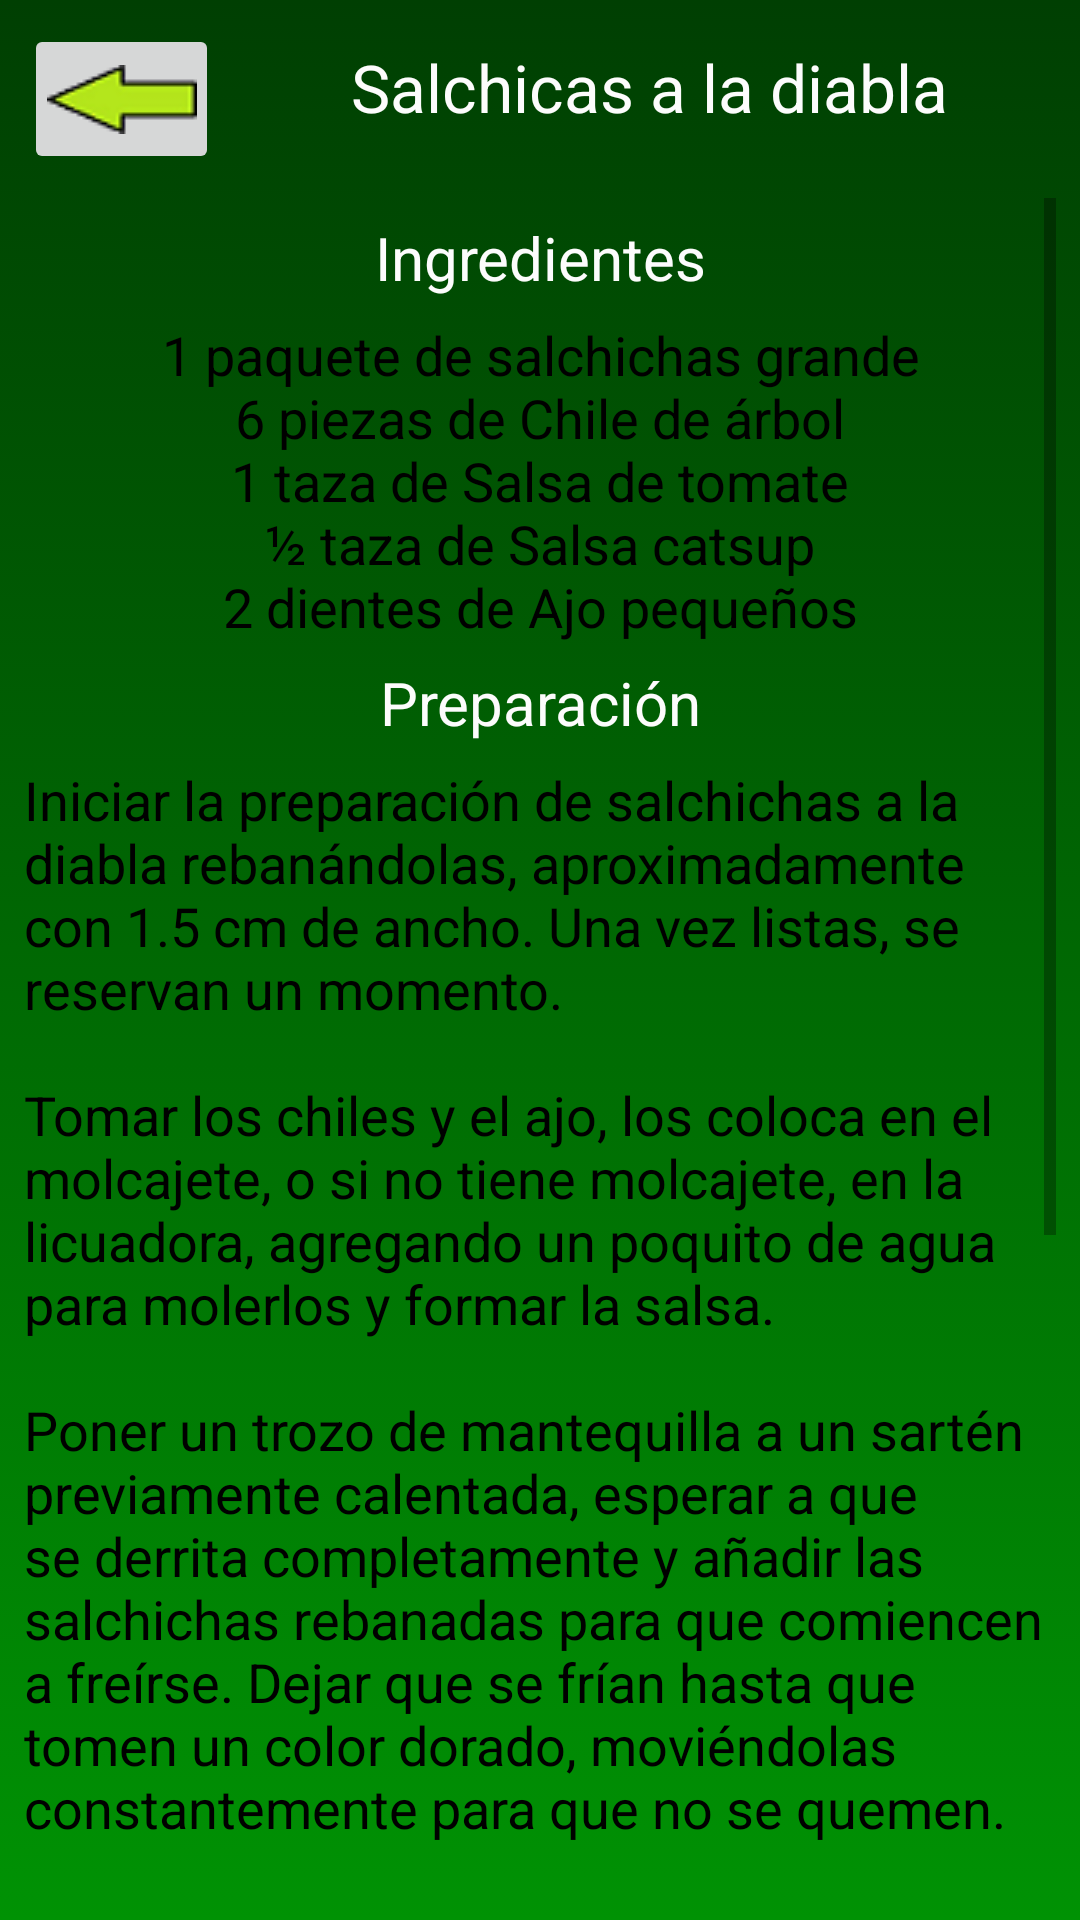

Point at icon controls on the screen. Image size 1080px x 1920px, points as (x=x, y=y).
Regresar: (x=121, y=99)
